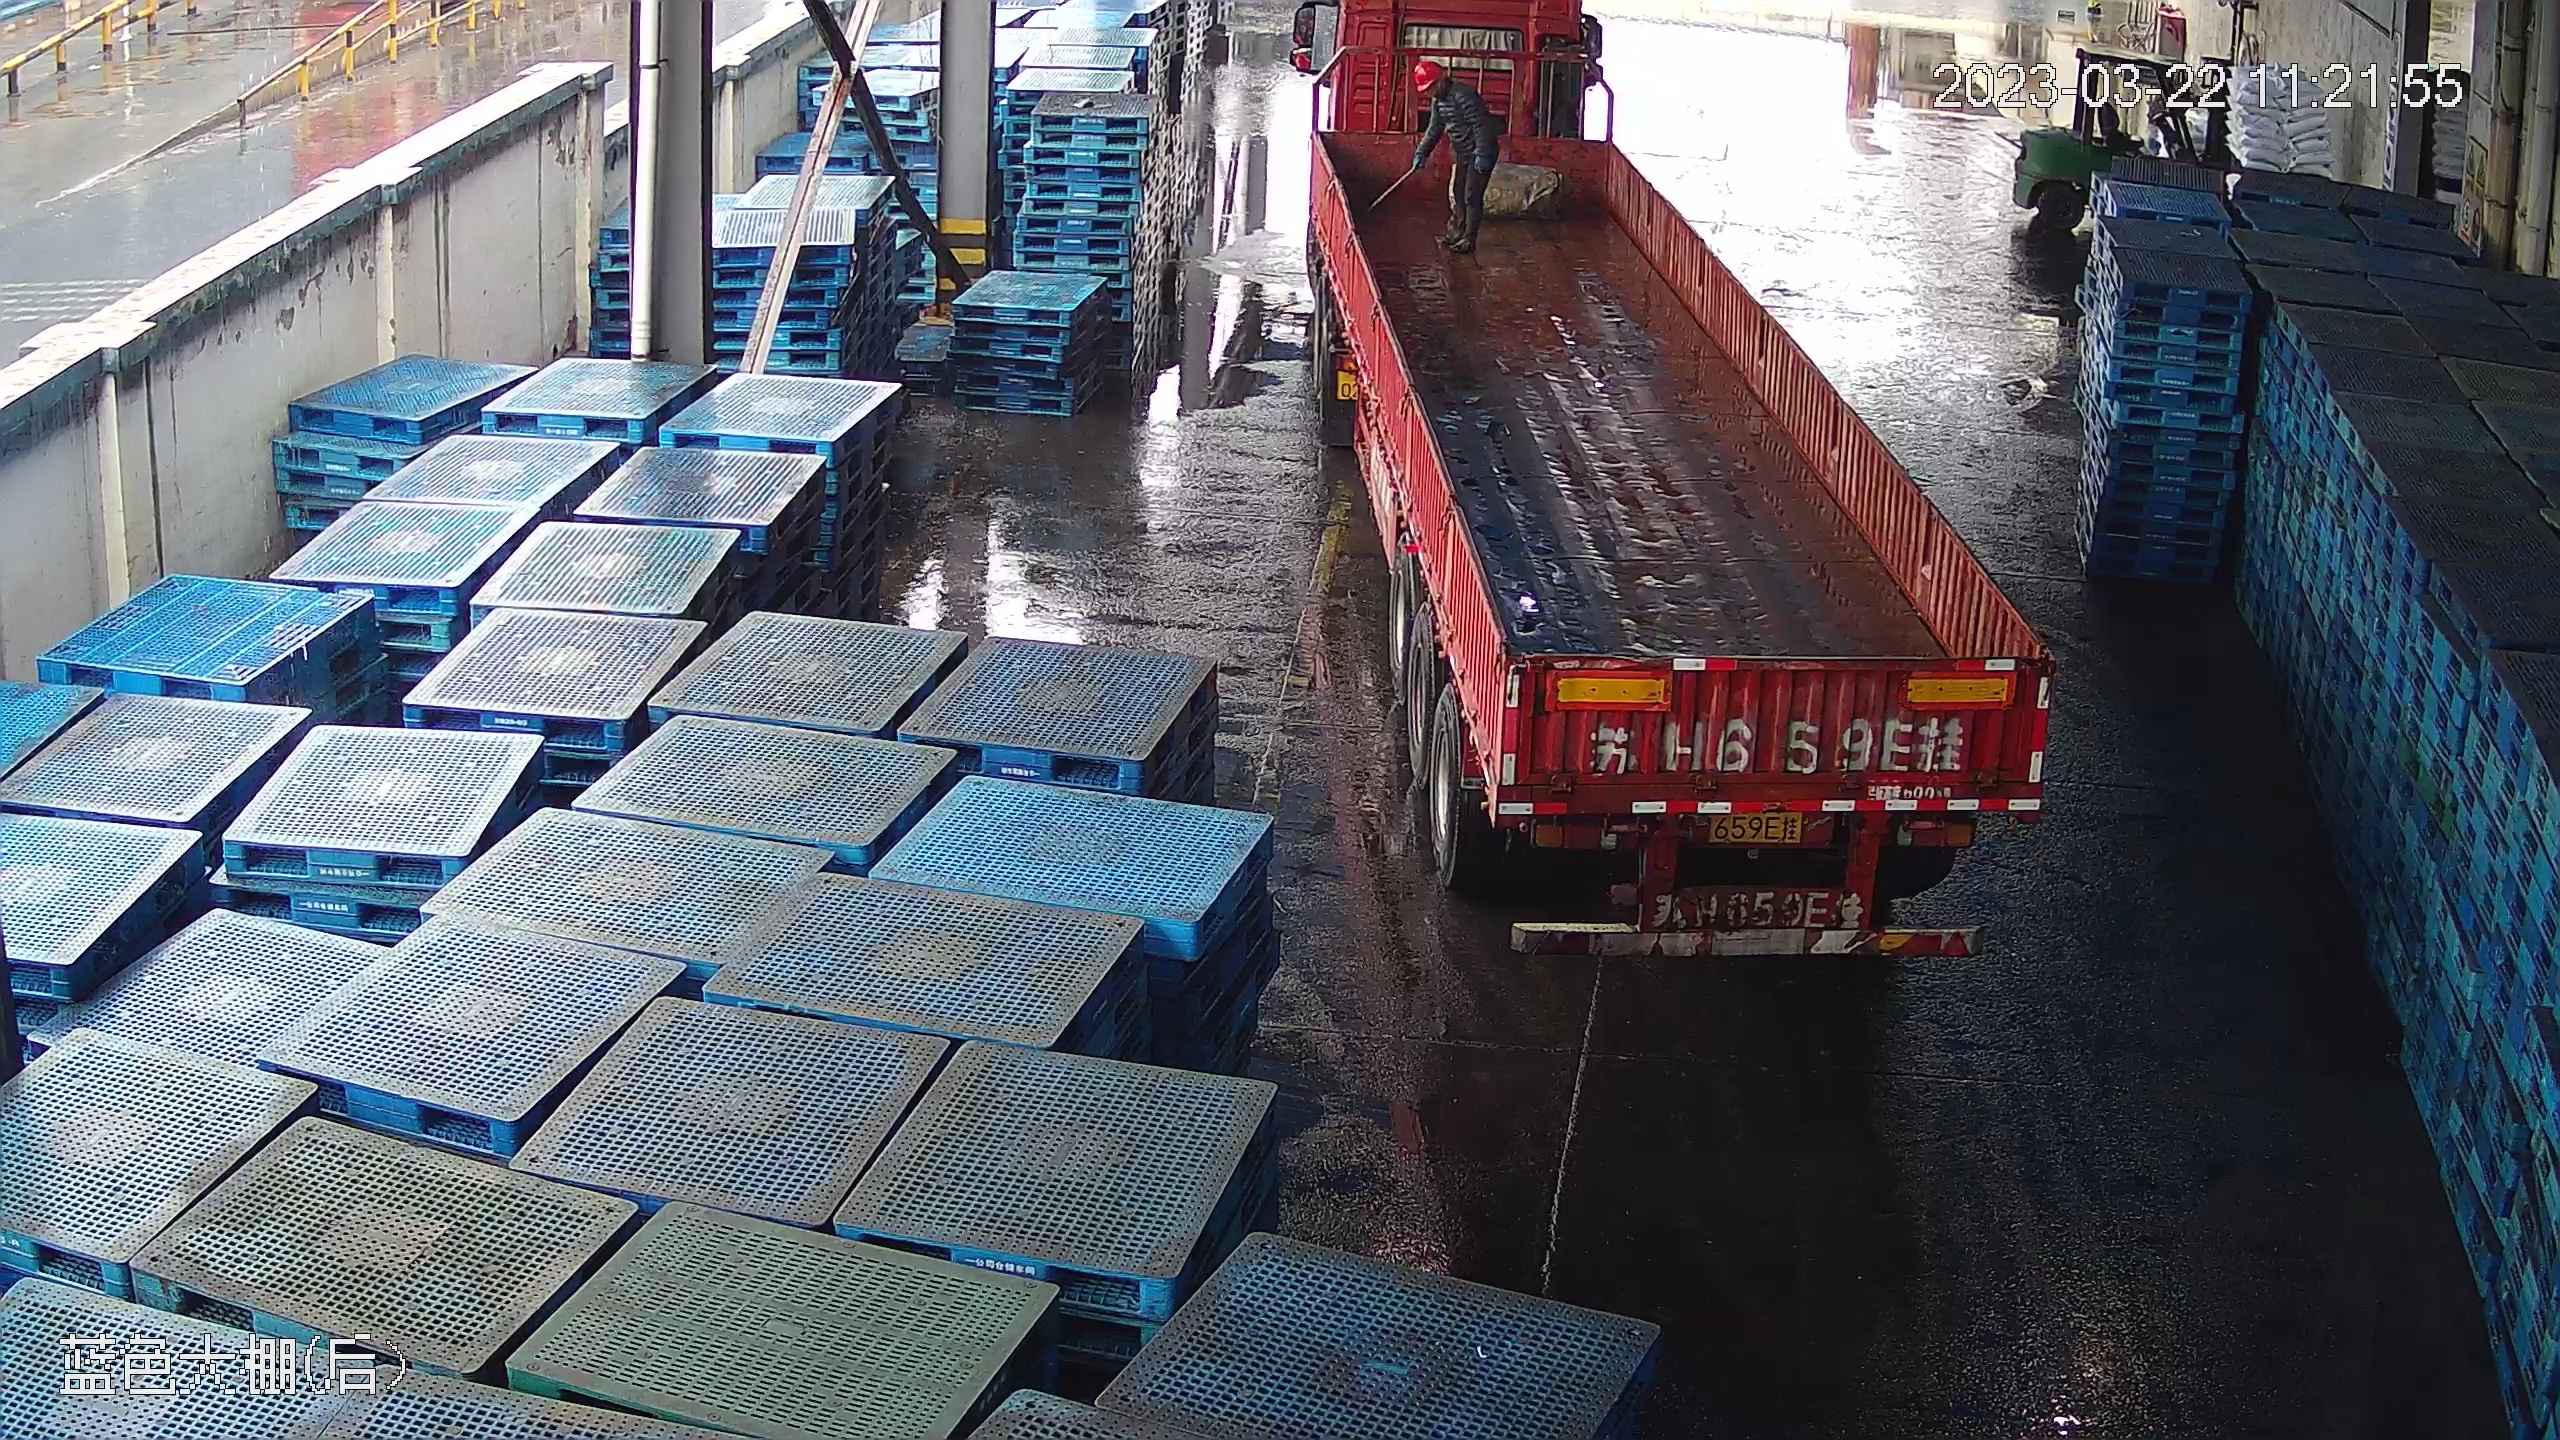head: (1408, 60, 1468, 111)
helmet: (1407, 61, 1460, 99)
people: (1408, 51, 1501, 259)
truck: (1289, 7, 2071, 970)
